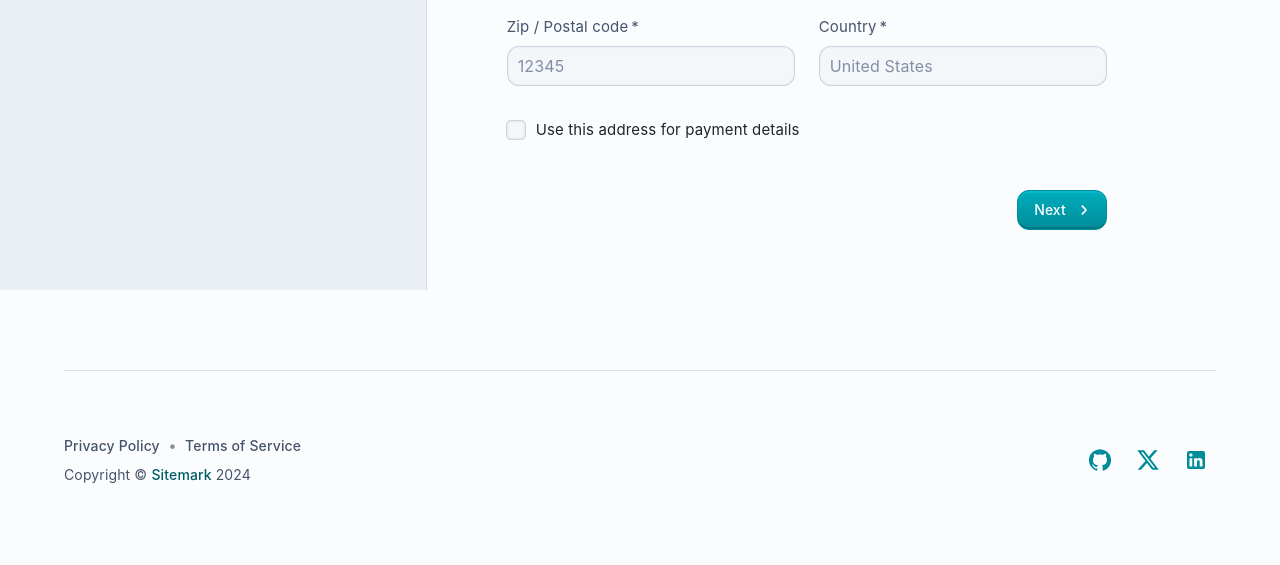
Test case: Checkout › sidebar › Functionality and events › adds the shipping cost to the total cost on the last step
(page scrolled)
Click the button "Next". click: (1062, 210)
box: x1=1017 y1=190 x2=1106 y2=230
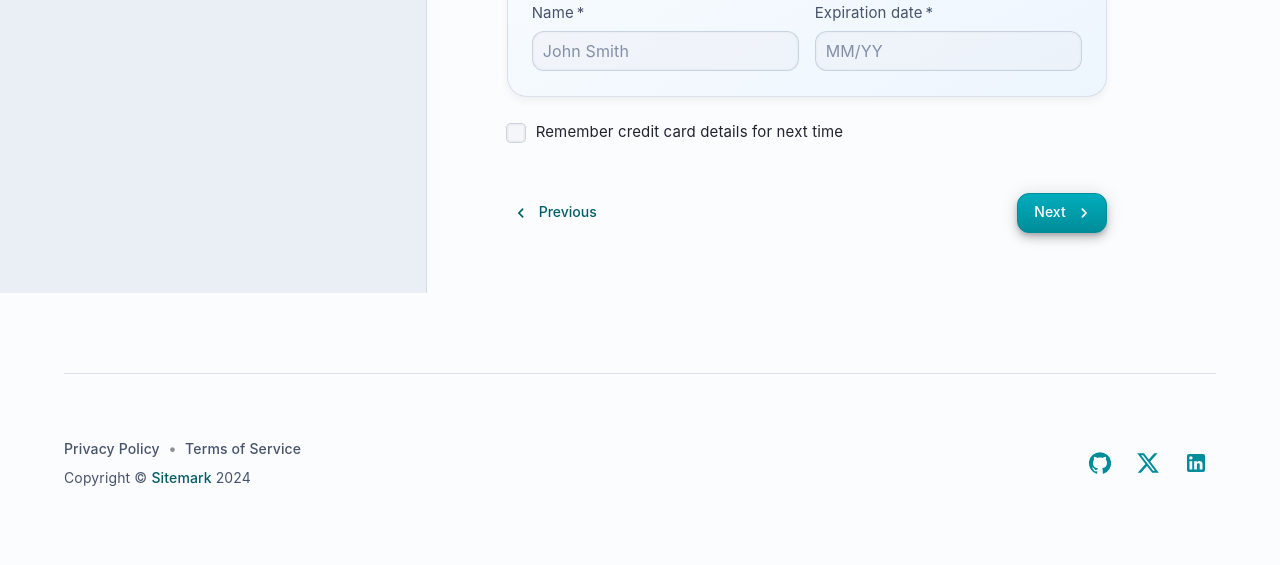
Click the button "Next". click: (1062, 213)
box: x1=1017 y1=193 x2=1106 y2=233
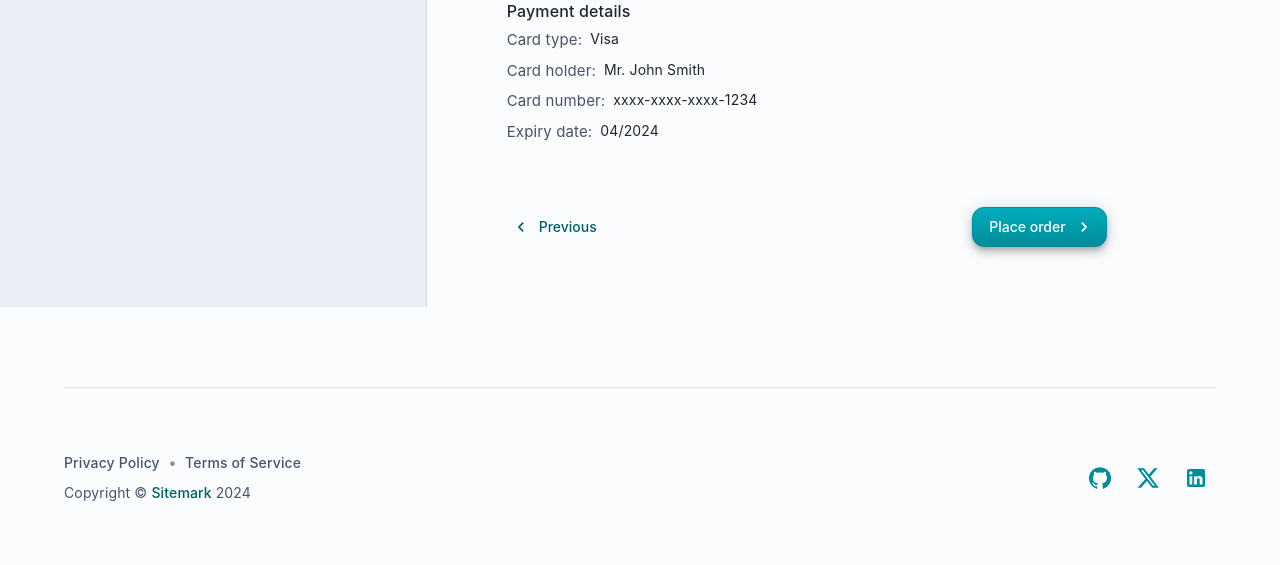
Expected: the button "Place order" is shown, x1=972 y1=207 x2=1107 y2=247
